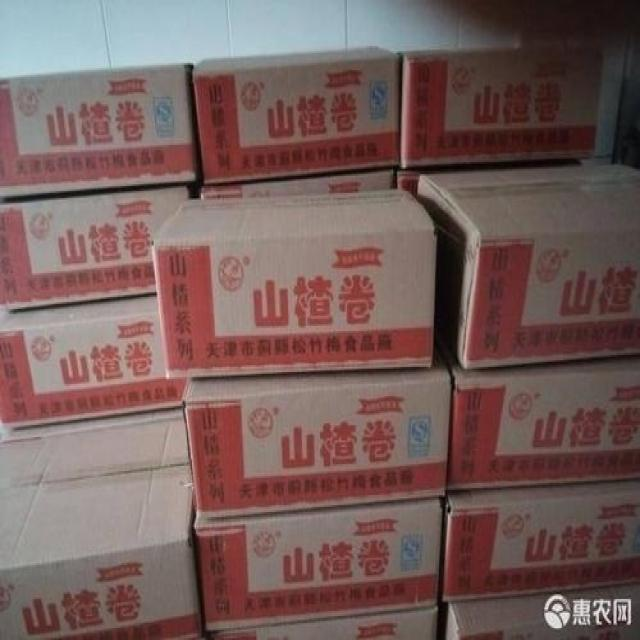Carton: (0, 63, 434, 430), (183, 381, 637, 599), (421, 162, 639, 358), (197, 509, 438, 626), (0, 418, 186, 565), (191, 56, 392, 184), (451, 370, 639, 493), (402, 56, 602, 160)
